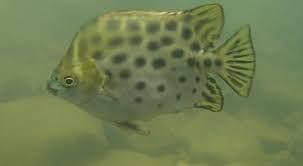Scat Fish: (46, 3, 259, 141)
